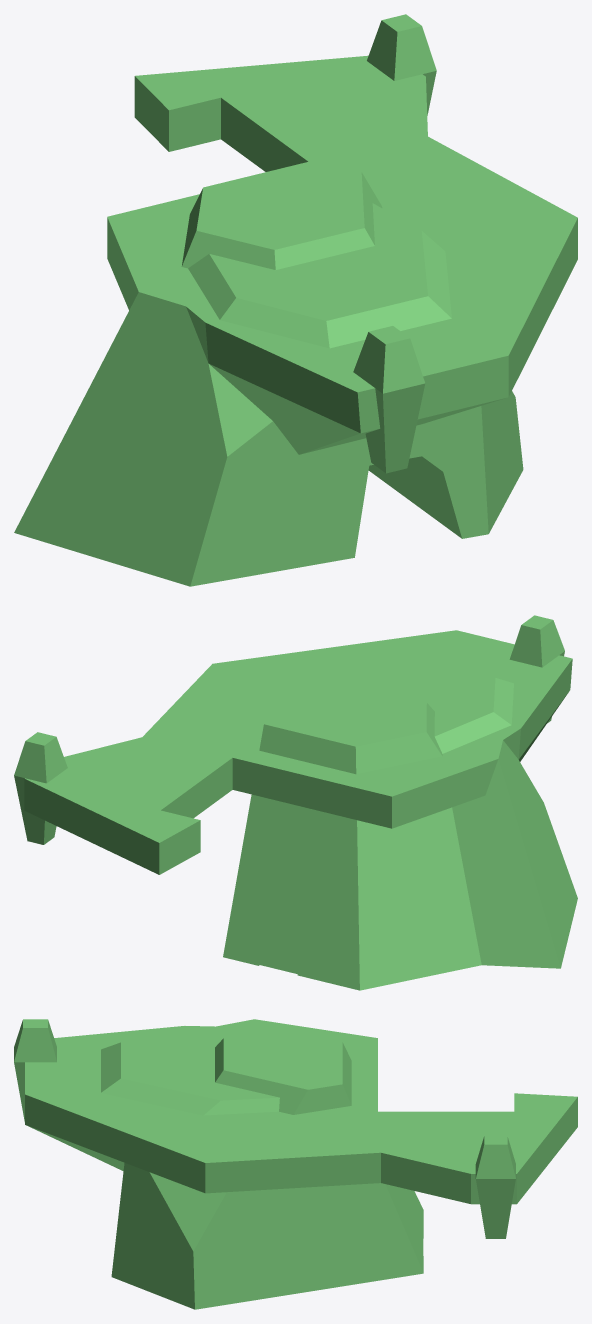
The model's file is x_lock_BIGMICRO_skala_part3_1_rmstrd.fbx.
3 renders of one model, top to bottom at view 1: azimuth 30°, elevation 25°; view 2: azimuth 150°, elevation 25°; view 3: azimuth 270°, elevation 25°, orthographic. The views are drawn at different scales.
Parts seen in each view (by area): view 1: x_lock_BIGMICRO_skala_part3_1_rmstrd1; view 2: x_lock_BIGMICRO_skala_part3_1_rmstrd1; view 3: x_lock_BIGMICRO_skala_part3_1_rmstrd1.
Part boxes in pixels (box(x1,y1,x2,y2)): x_lock_BIGMICRO_skala_part3_1_rmstrd1: box(14, 14, 577, 586); x_lock_BIGMICRO_skala_part3_1_rmstrd1: box(14, 615, 577, 990); x_lock_BIGMICRO_skala_part3_1_rmstrd1: box(14, 1019, 577, 1309).
Size of the model in its own units: 14.94 by 7.08 by 18.13.
